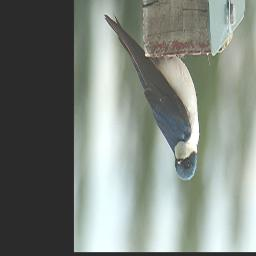Swallow: (104, 12, 200, 181)
